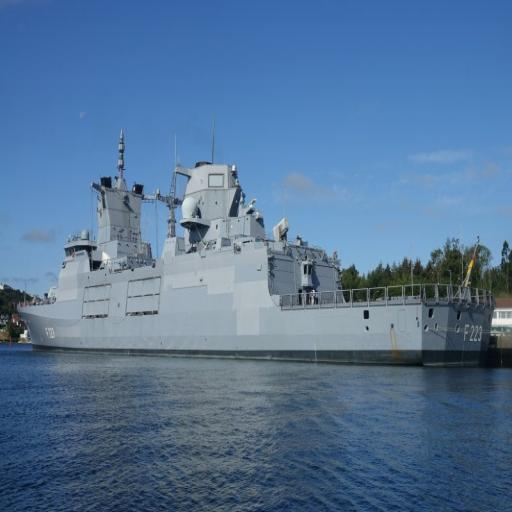Fragata: (15, 122, 498, 365)
